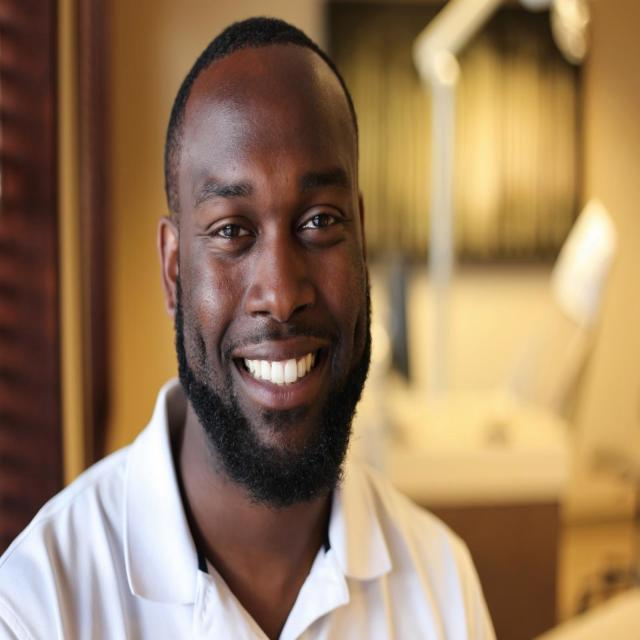adult: (0, 16, 499, 640)
